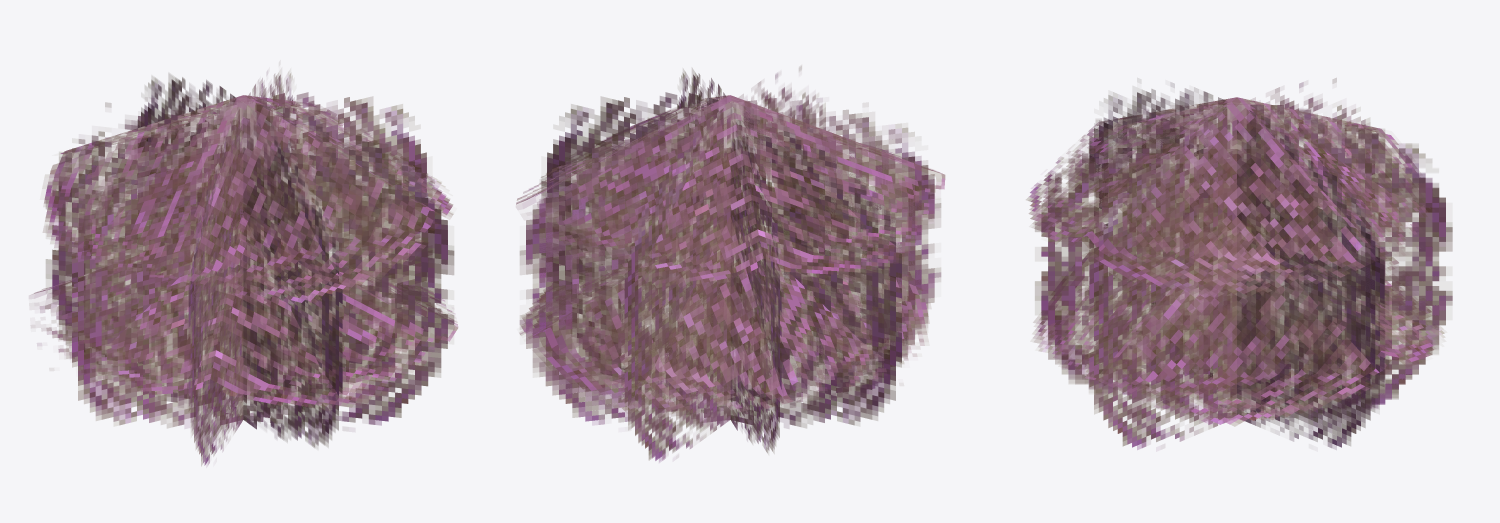
File: Environment - Debris and Ruins - Rubble Mound - Debris - PMTmbWeed01.glb
3 renders of one model, left to right at view 1: azimuth 30°, elevation 25°; view 2: azimuth 150°, elevation 25°; view 3: azimuth 270°, elevation 25°, orthographic.
Parts seen in each view (by area): view 1: PMTMBWEED01; view 2: PMTMBWEED01; view 3: PMTMBWEED01.
Boxes of the visible parts, box(x1,y1,x2,y2) form: PMTMBWEED01: box(29, 71, 457, 465); PMTMBWEED01: box(516, 66, 945, 462); PMTMBWEED01: box(1026, 78, 1452, 449).
Bounding box in the file's own units: 12.56 × 8.93 × 12.56.
1 material, 1 textured.
